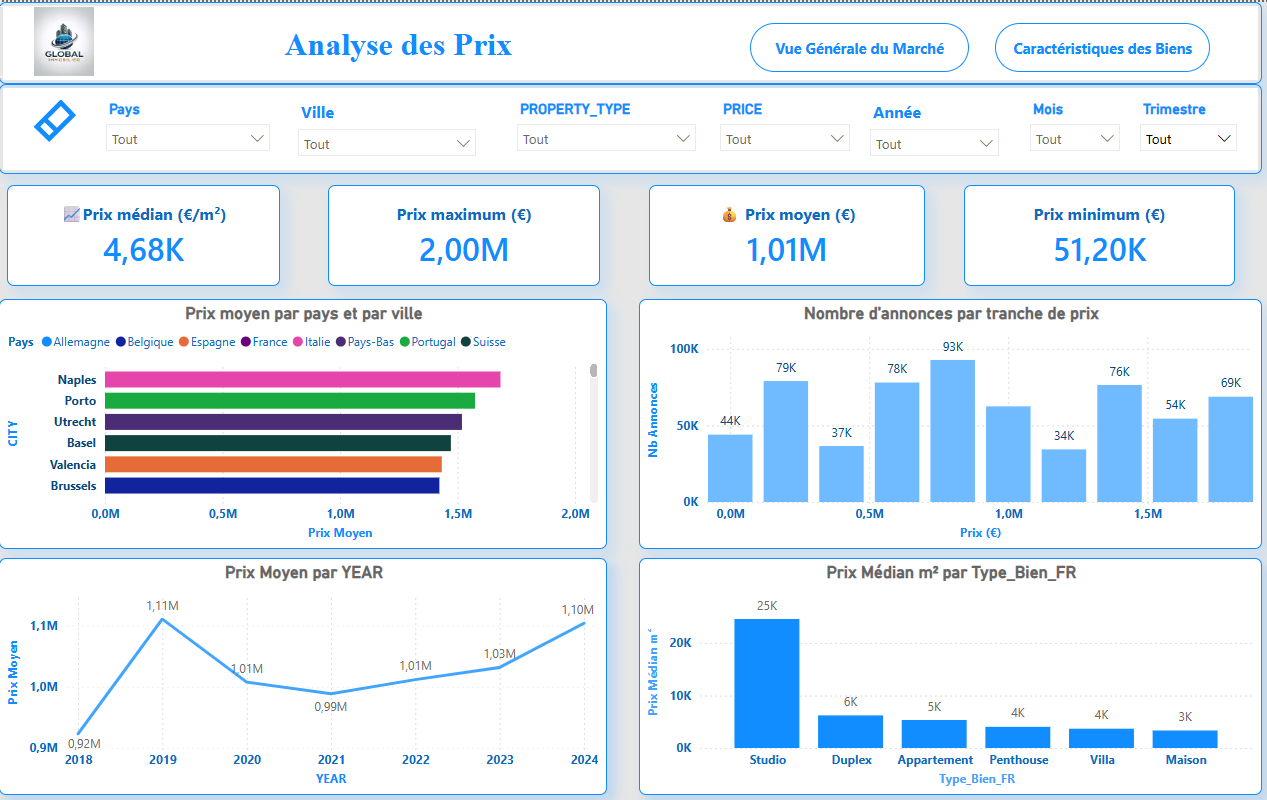

The page's visual inventory and layout, read from the dashboard file:
{"tool":"powerbi","page":{"name":"Analyse des Prix","canvas":[1280,800],"ordinal":1},"visuals":[{"type":"shape","box":[10,0,1263,82],"z":0},{"type":"shape","box":[10,82,1263,90],"z":1000},{"type":"textbox","box":[100,19,618,51],"z":2000},{"type":"actionButton","box":[761,21,219,49],"z":3000},{"type":"actionButton","box":[1006,21,215,49],"z":4000},{"type":"image","box":[0,3.9,149.6,70.9],"z":5000},{"type":"cardVisual","fields":{"Data":["FACT_LISTING.Prix maximum (€)"]},"box":[339,183,272,101],"z":6000},{"type":"cardVisual","fields":{"Data":["FACT_LISTING.Prix Moyen"]},"box":[660,183,276,101],"z":7000},{"type":"cardVisual","fields":{"Data":["FACT_LISTING.Prix minimum (€)"]},"box":[975,183,271,101],"z":8000},{"type":"barChart","title":"Prix moyen par pays et par ville","fields":{"Category":["DIM_LOCATION.CITY"],"Y":["FACT_LISTING.Prix Moyen"],"Series":["DIM_LOCATION.PAYS_FR"]},"box":[10,297,608,250],"z":9000},{"type":"clusteredColumnChart","title":"Nombre d''annonces par tranche de prix","fields":{"Category":["FACT_LISTING.PRICE (compartiments)"],"Y":["FACT_LISTING.Nb Annonces"]},"box":[650,297,623,250],"z":10000},{"type":"slicer","fields":{"Values":["DIM_LOCATION.COUNTRY"]},"box":[107,94,184,68],"z":11000},{"type":"slicer","fields":{"Values":["DIM_PROPERTY.PROPERTY_TYPE"]},"box":[518,94,199,68],"z":12000},{"type":"slicer","fields":{"Values":["DIM_LOCATION.CITY"]},"box":[299,94,198,68],"z":13000},{"type":"slicer","fields":{"Values":["DIM_DATE.MONTH"]},"box":[1031,94,110,68],"z":14000},{"type":"slicer","fields":{"Values":["DIM_DATE.YEAR"]},"box":[871,94,149,68],"z":15000},{"type":"slicer","fields":{"Values":["DIM_DATE.QUARTER"]},"box":[1141,94,117,68],"z":16000},{"type":"slicer","fields":{"Values":["FACT_LISTING.PRICE"]},"box":[721,94,150,68],"z":17000},{"type":"cardVisual","fields":{"Data":["FACT_LISTING.Prix Médian m²"]},"box":[18,183,273,101],"z":18000},{"type":"clusteredColumnChart","fields":{"Y":["FACT_LISTING.Prix Médian m²"],"Category":["DIM_PROPERTY.Type_Bien_FR"]},"box":[650,556,623,237],"z":19000},{"type":"lineChart","fields":{"Category":["DIM_DATE.YEAR"],"Y":["FACT_LISTING.Prix Moyen"]},"box":[10,556,608,237],"z":20000},{"type":"actionButton","box":[32,94,68,50],"z":21000}]}

Visuals, with their boxes in screenshot pixels (x1, y1, x2, y2), scaled from the page's 1280x800 canvas onto the 1267x800 screenshot:
shape: bbox=[10, 0, 1260, 82]
shape: bbox=[10, 82, 1260, 172]
textbox: bbox=[99, 19, 711, 70]
actionButton: bbox=[753, 21, 970, 70]
actionButton: bbox=[996, 21, 1209, 70]
image: bbox=[0, 4, 148, 75]
cardVisual - FACT_LISTING.Prix maximum (€): bbox=[336, 183, 605, 284]
cardVisual - FACT_LISTING.Prix Moyen: bbox=[653, 183, 926, 284]
cardVisual - FACT_LISTING.Prix minimum (€): bbox=[965, 183, 1233, 284]
"Prix moyen par pays et par ville" barChart: bbox=[10, 297, 612, 547]
"Nombre d''annonces par tranche de prix" clusteredColumnChart: bbox=[643, 297, 1260, 547]
slicer - DIM_LOCATION.COUNTRY: bbox=[106, 94, 288, 162]
slicer - DIM_PROPERTY.PROPERTY_TYPE: bbox=[513, 94, 710, 162]
slicer - DIM_LOCATION.CITY: bbox=[296, 94, 492, 162]
slicer - DIM_DATE.MONTH: bbox=[1021, 94, 1129, 162]
slicer - DIM_DATE.YEAR: bbox=[862, 94, 1010, 162]
slicer - DIM_DATE.QUARTER: bbox=[1129, 94, 1245, 162]
slicer - FACT_LISTING.PRICE: bbox=[714, 94, 862, 162]
cardVisual - FACT_LISTING.Prix Médian m²: bbox=[18, 183, 288, 284]
clusteredColumnChart - FACT_LISTING.Prix Médian m² x DIM_PROPERTY.Type_Bien_FR: bbox=[643, 556, 1260, 793]
lineChart - DIM_DATE.YEAR x FACT_LISTING.Prix Moyen: bbox=[10, 556, 612, 793]
actionButton: bbox=[32, 94, 99, 144]
